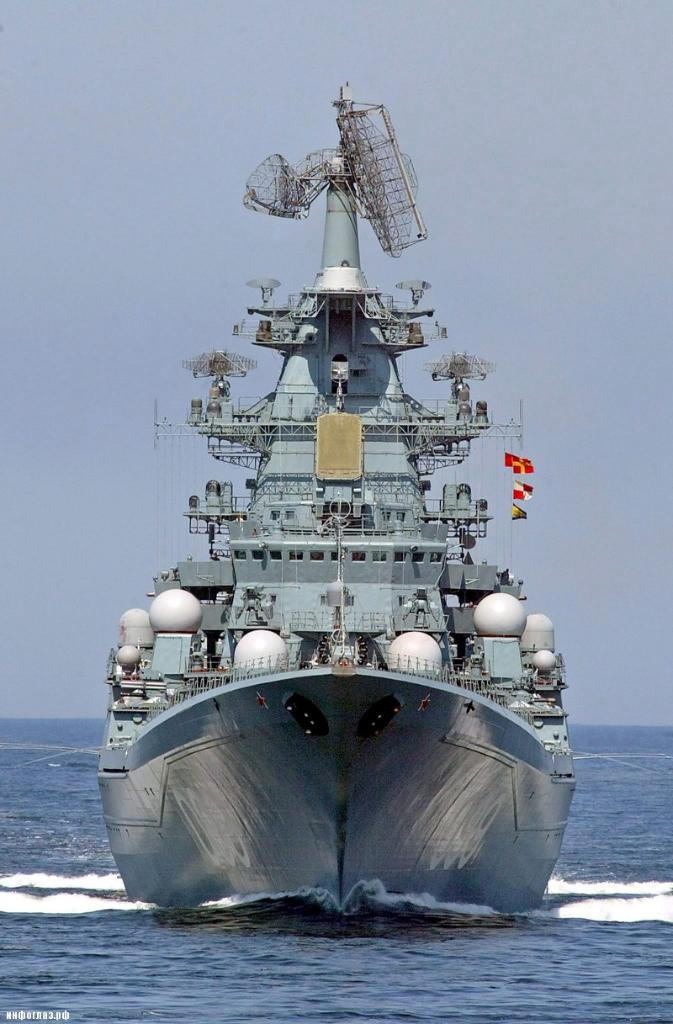Warship: (83, 80, 599, 938)
